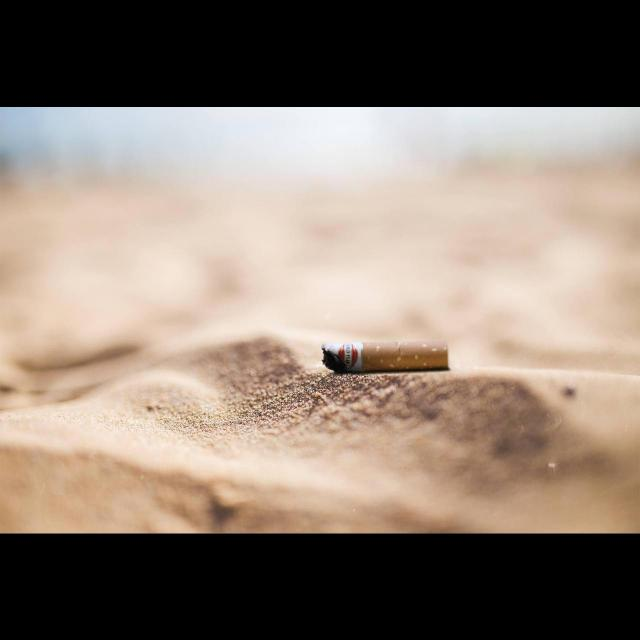cigarette: (322, 340, 449, 374)
